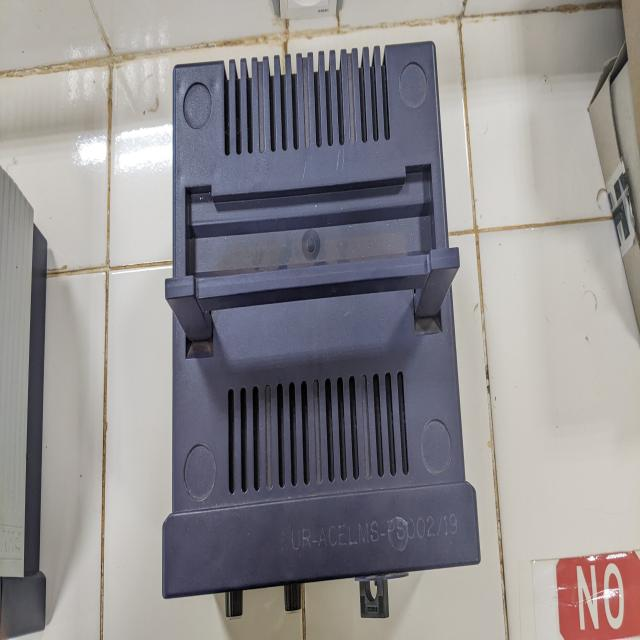Netzgerat Universal Power Supply: (150, 19, 492, 633)
